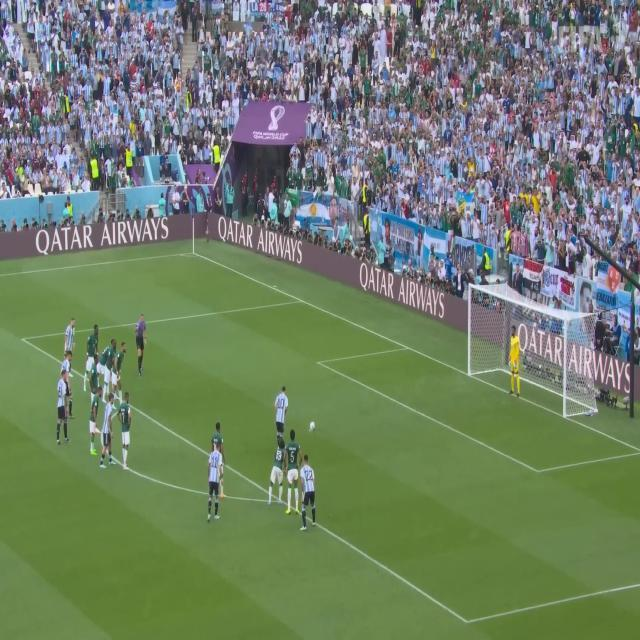player: (203, 438, 228, 528), (299, 451, 322, 536), (284, 425, 302, 522), (116, 386, 136, 471), (271, 379, 295, 449), (100, 390, 117, 478), (505, 324, 523, 405), (209, 420, 229, 491), (112, 337, 134, 399), (63, 346, 80, 426), (56, 362, 70, 445), (87, 323, 102, 393), (271, 437, 286, 507), (90, 382, 102, 461), (102, 336, 117, 393), (65, 313, 79, 370)
